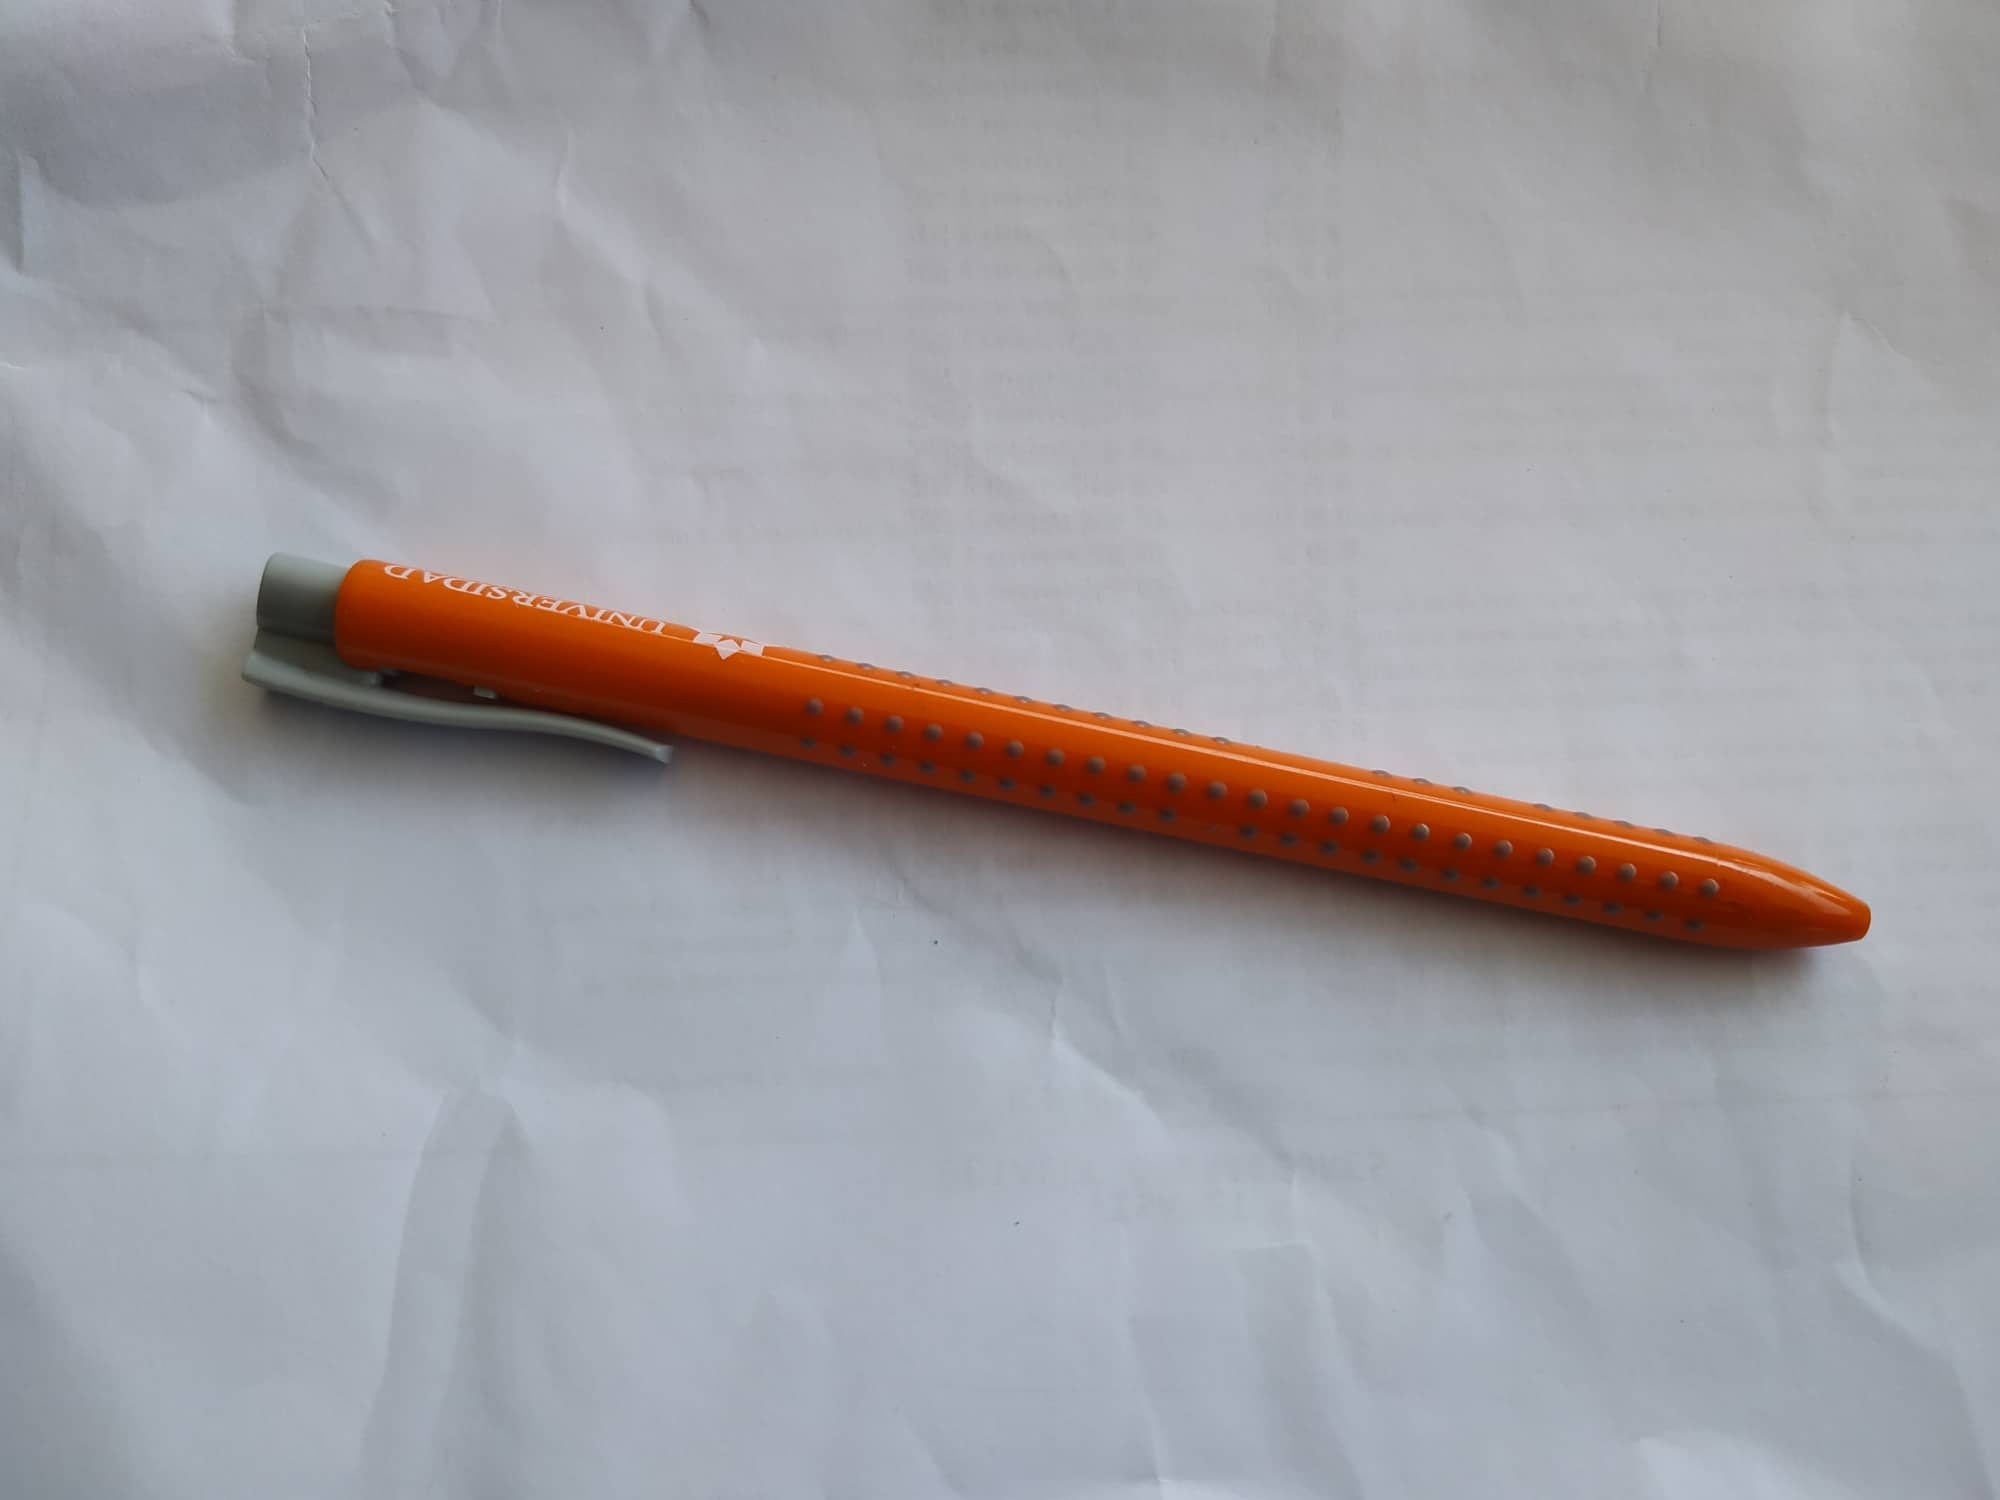qillqana: (228, 526, 1906, 980)
